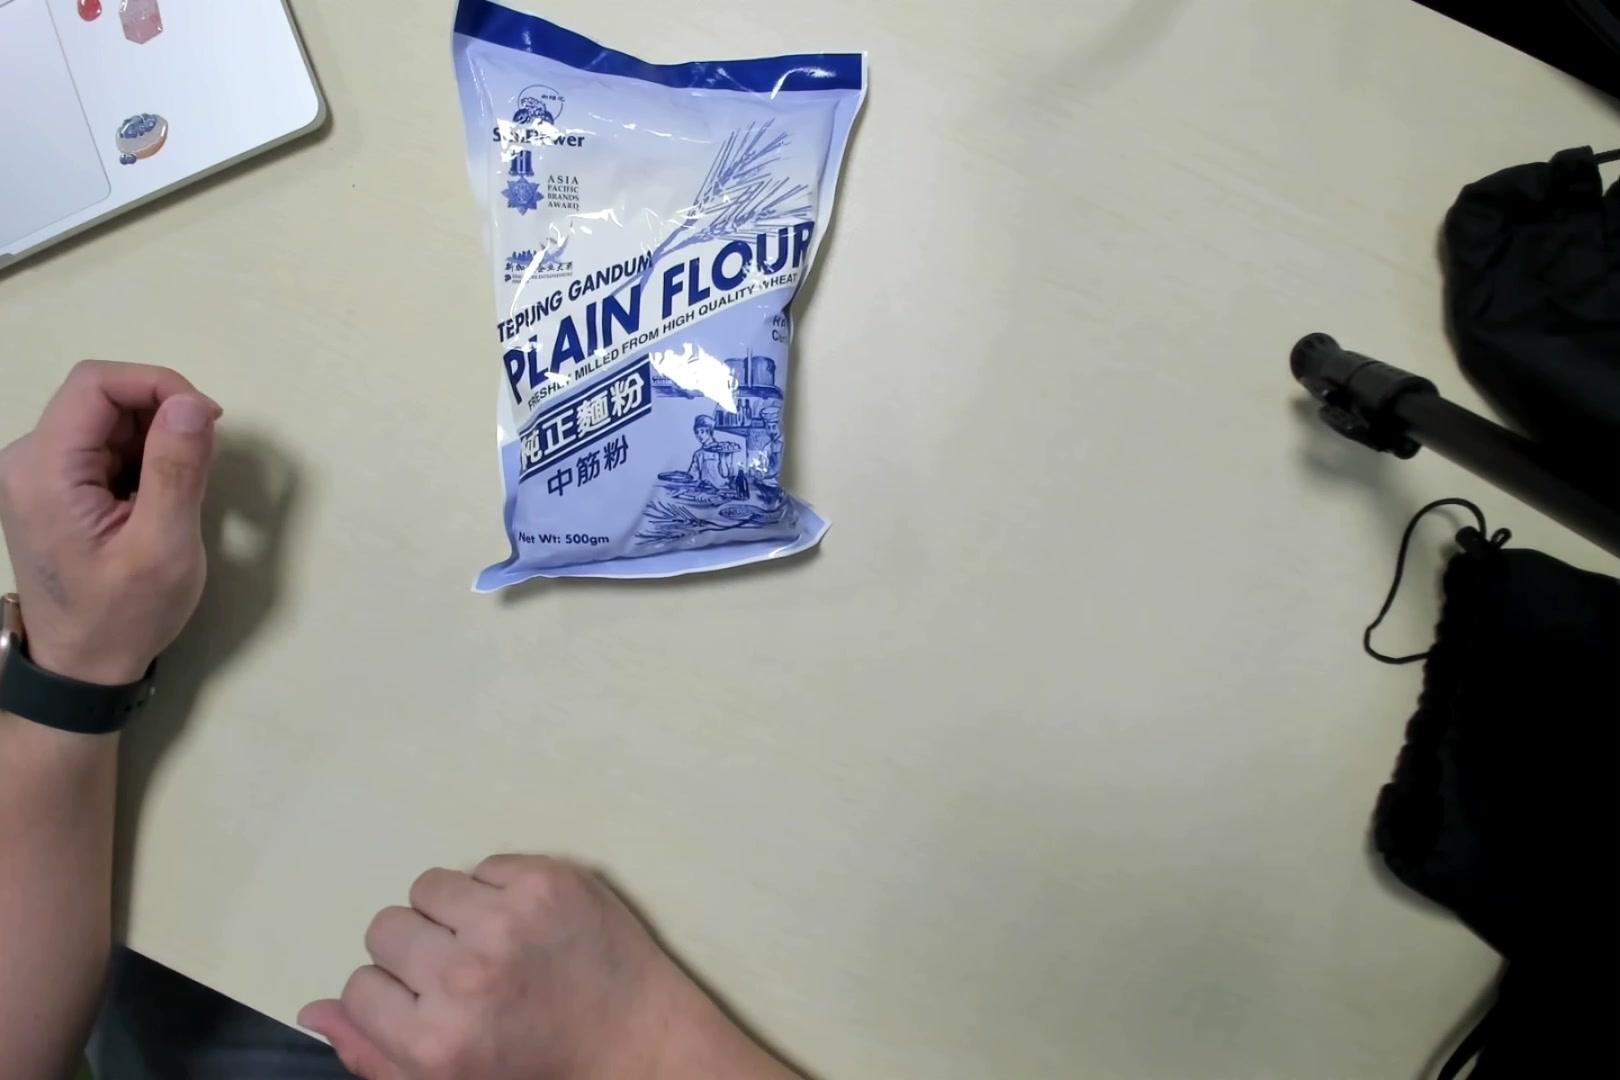Flour_500-599g_NonHalal_NonHealthy: (457, 11, 843, 587)
